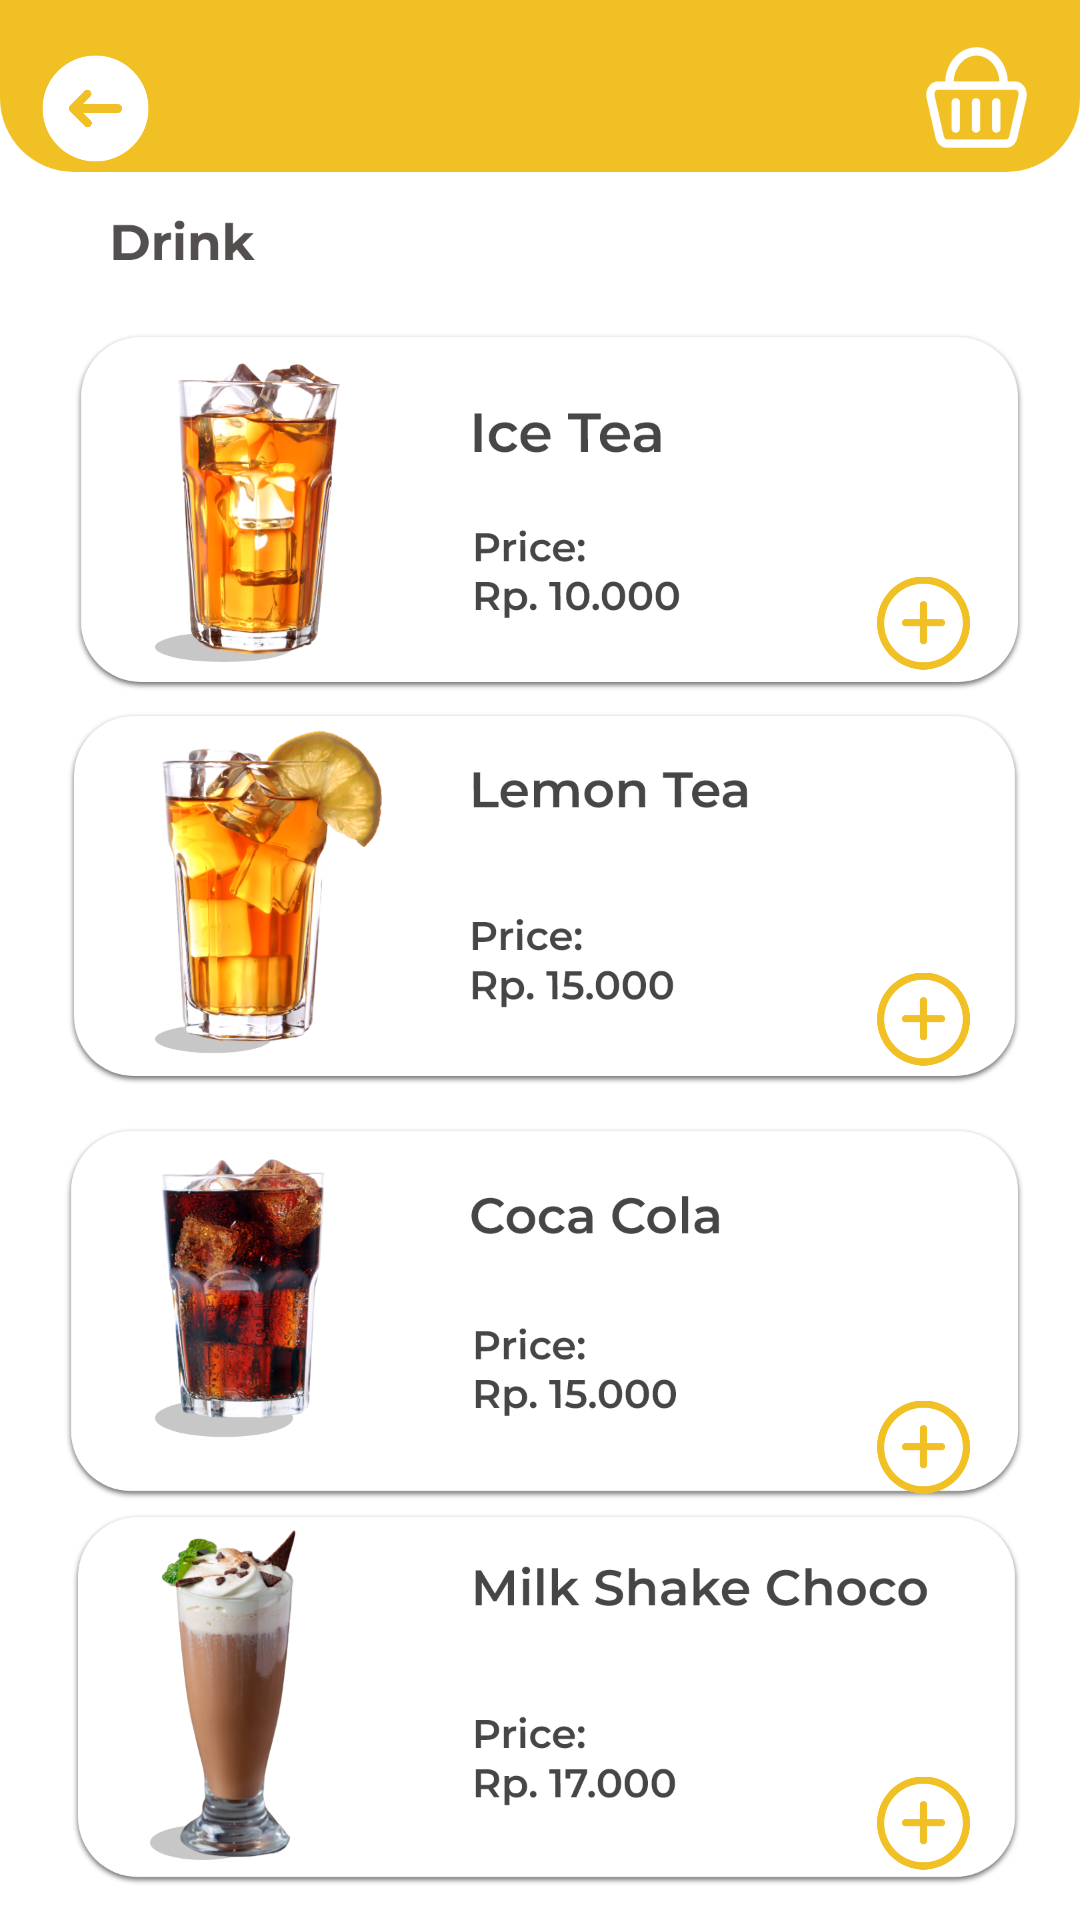

Where icons sit on this 1080w x 1920h app screen, as box(x1, y1, x2, y2):
add: box(877, 577, 970, 670), box(877, 973, 970, 1066), box(877, 1401, 970, 1495), box(877, 1777, 970, 1870)
back: box(42, 55, 149, 162)
cart: box(926, 47, 1027, 148)
